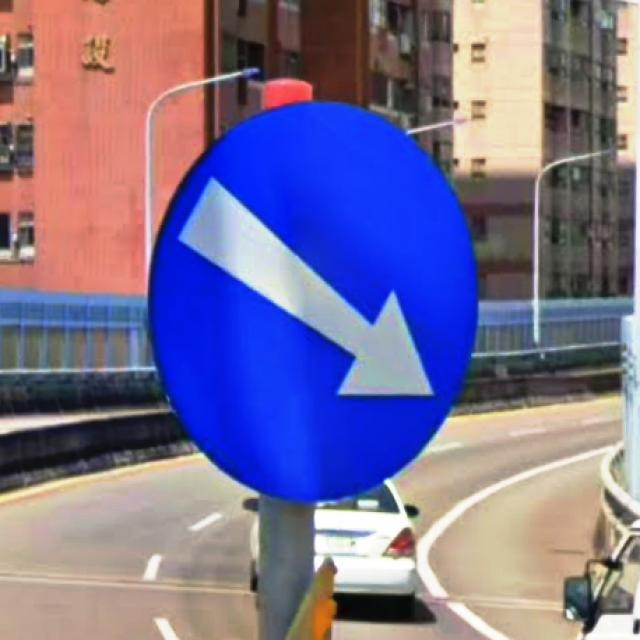thisway: (143, 94, 482, 505)
